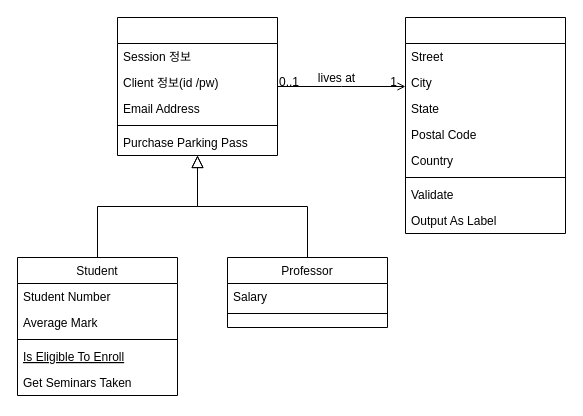
Image size: 583x416. Some labels were removed from this diagram. The box of each missing label's shape, as (x1, y1, x2, y2) in pixels:
Address: (404, 16, 566, 234)
Server: (116, 16, 278, 156)
